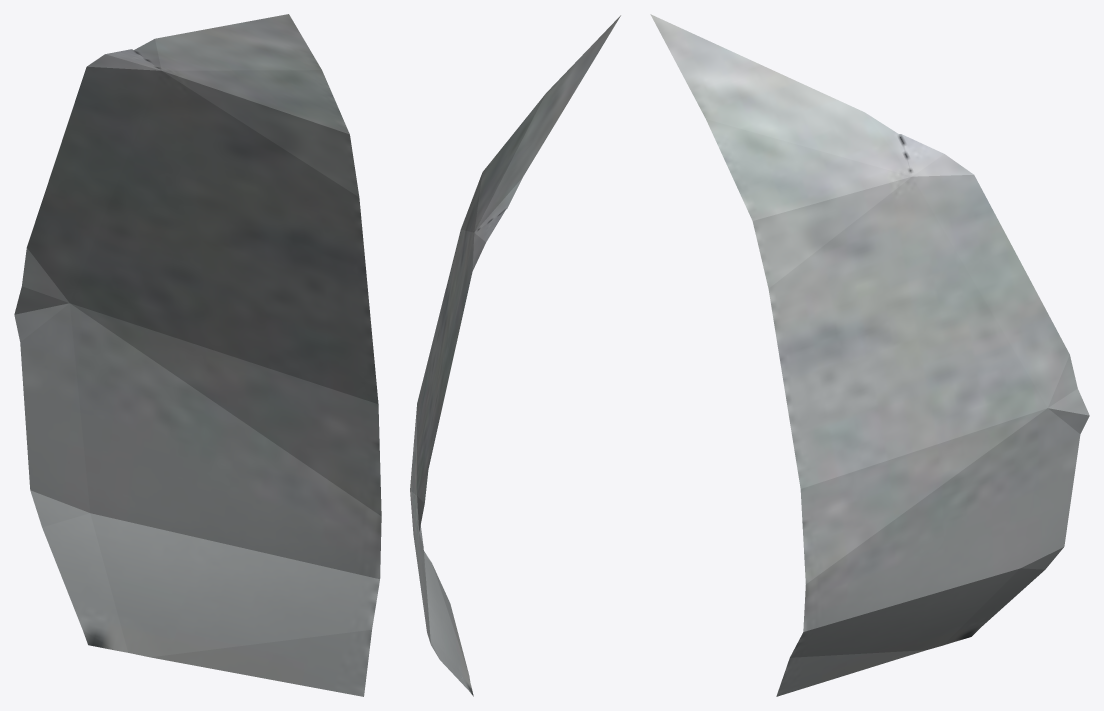
3 renders of one model, left to right at view 1: azimuth 30°, elevation 25°; view 2: azimuth 150°, elevation 25°; view 3: azimuth 270°, elevation 25°, orthographic. The views are drawn at different scales.
Bounding box in the file's own units: 0.3119 × 1.22 × 0.7811.
1 material, 1 textured.
